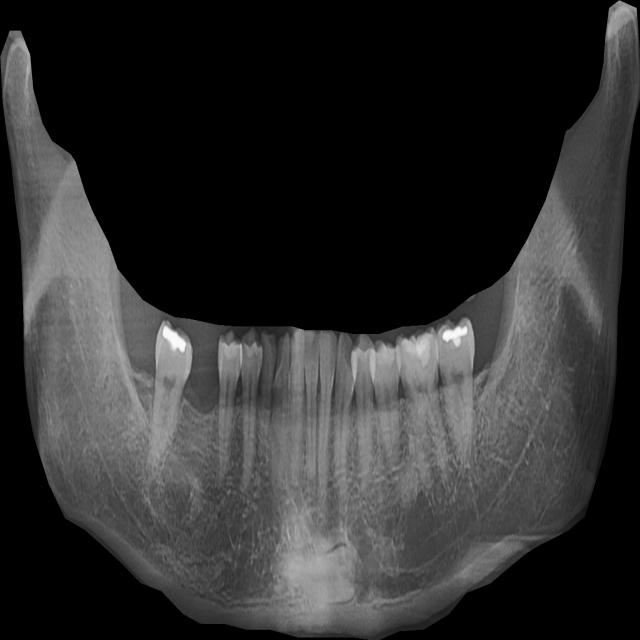mandibula: (0, 0, 640, 640)
